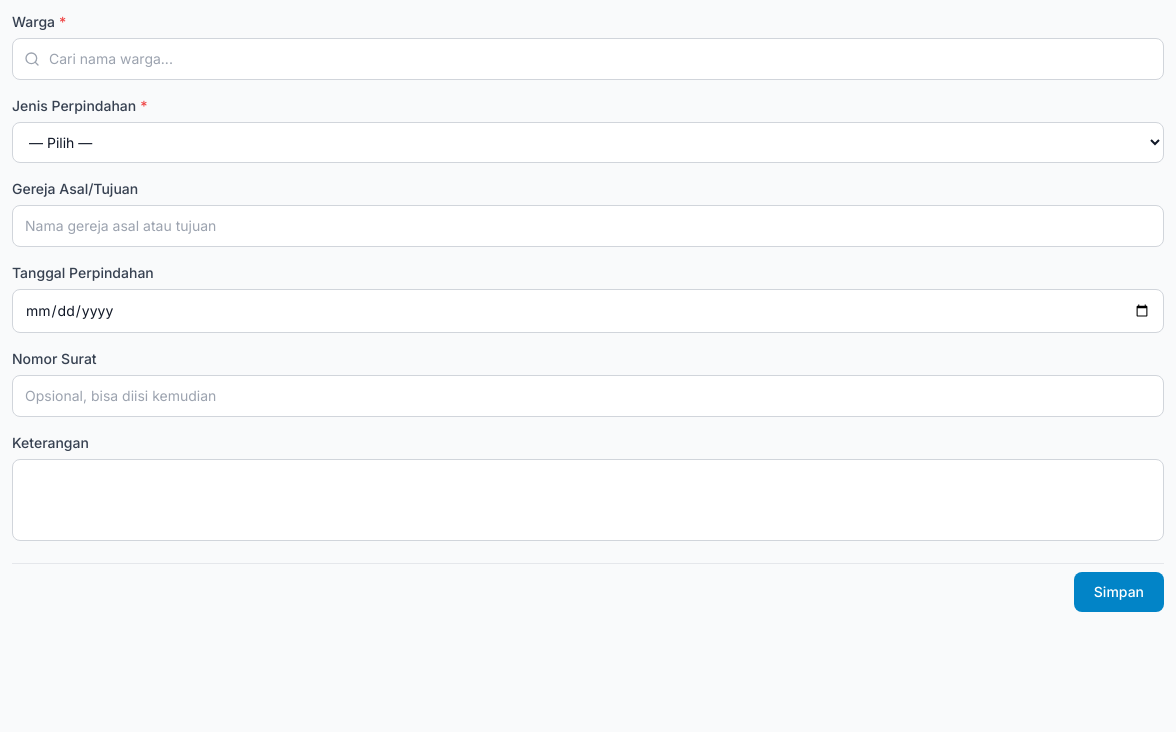
Test: PerpindahanForm › submit tanpa pilih jenis menampilkan error validasi
Type "Budi" into the field with placeholder "Cari nama warga..." at (588, 59), box [12,38,1164,80]
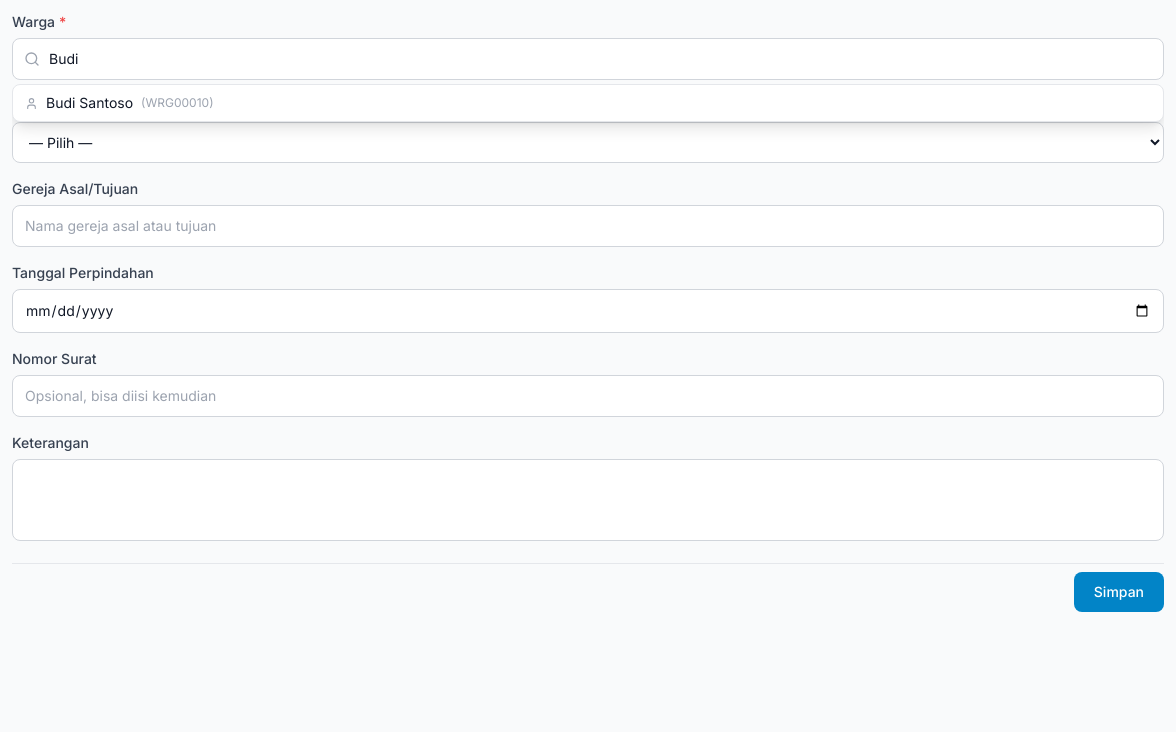
Click the text "Budi Santoso" at (90, 103), box [46,93,133,113]
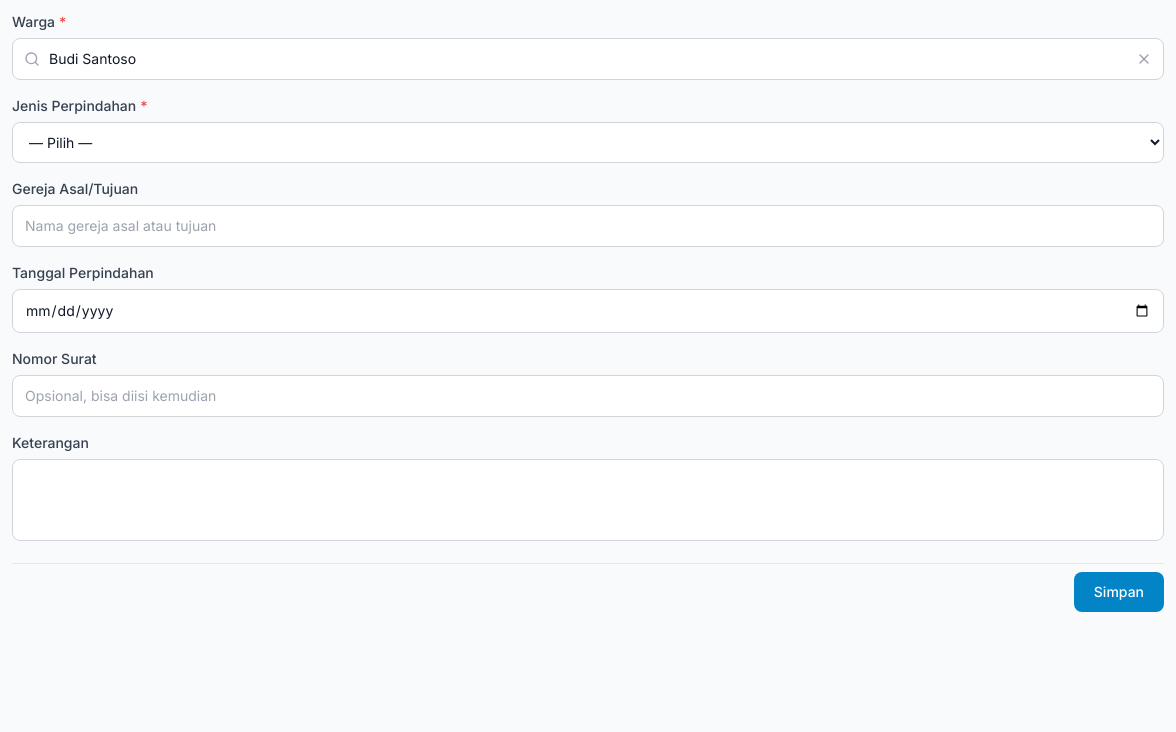
Click the button "Simpan" at (1119, 592), box [1074,572,1164,612]
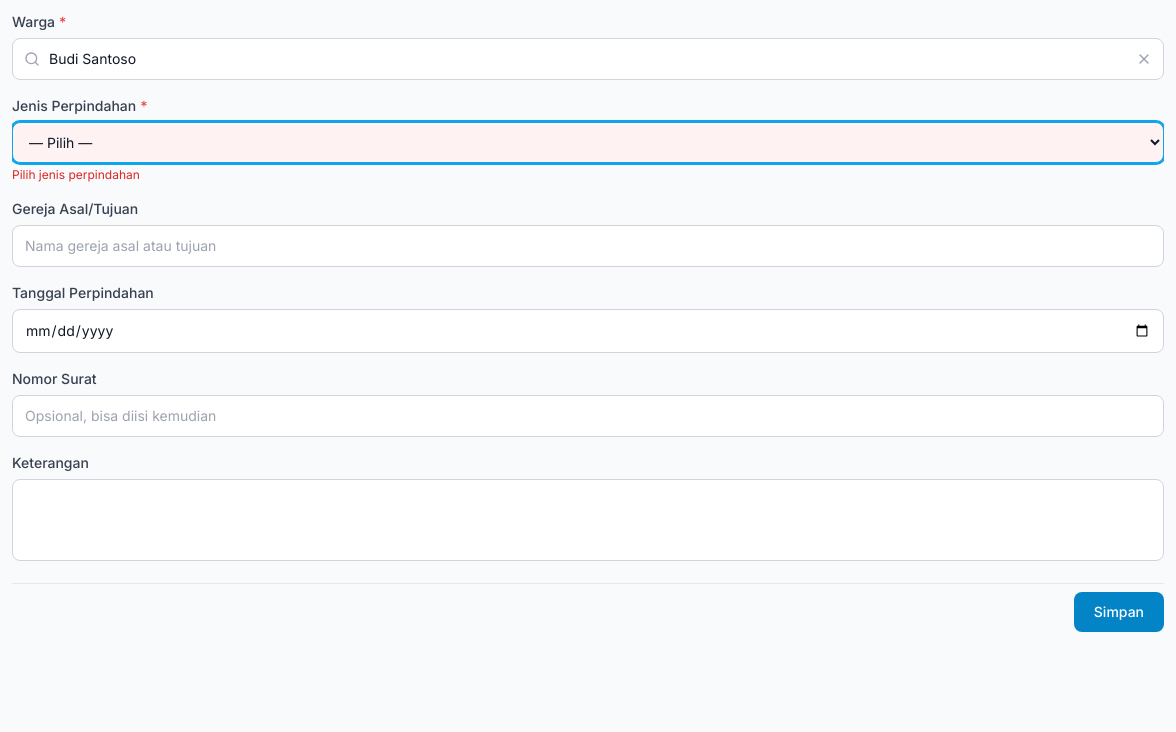
expect the text "Pilih jenis perpindahan" is shown: met, box [12,167,140,182]
